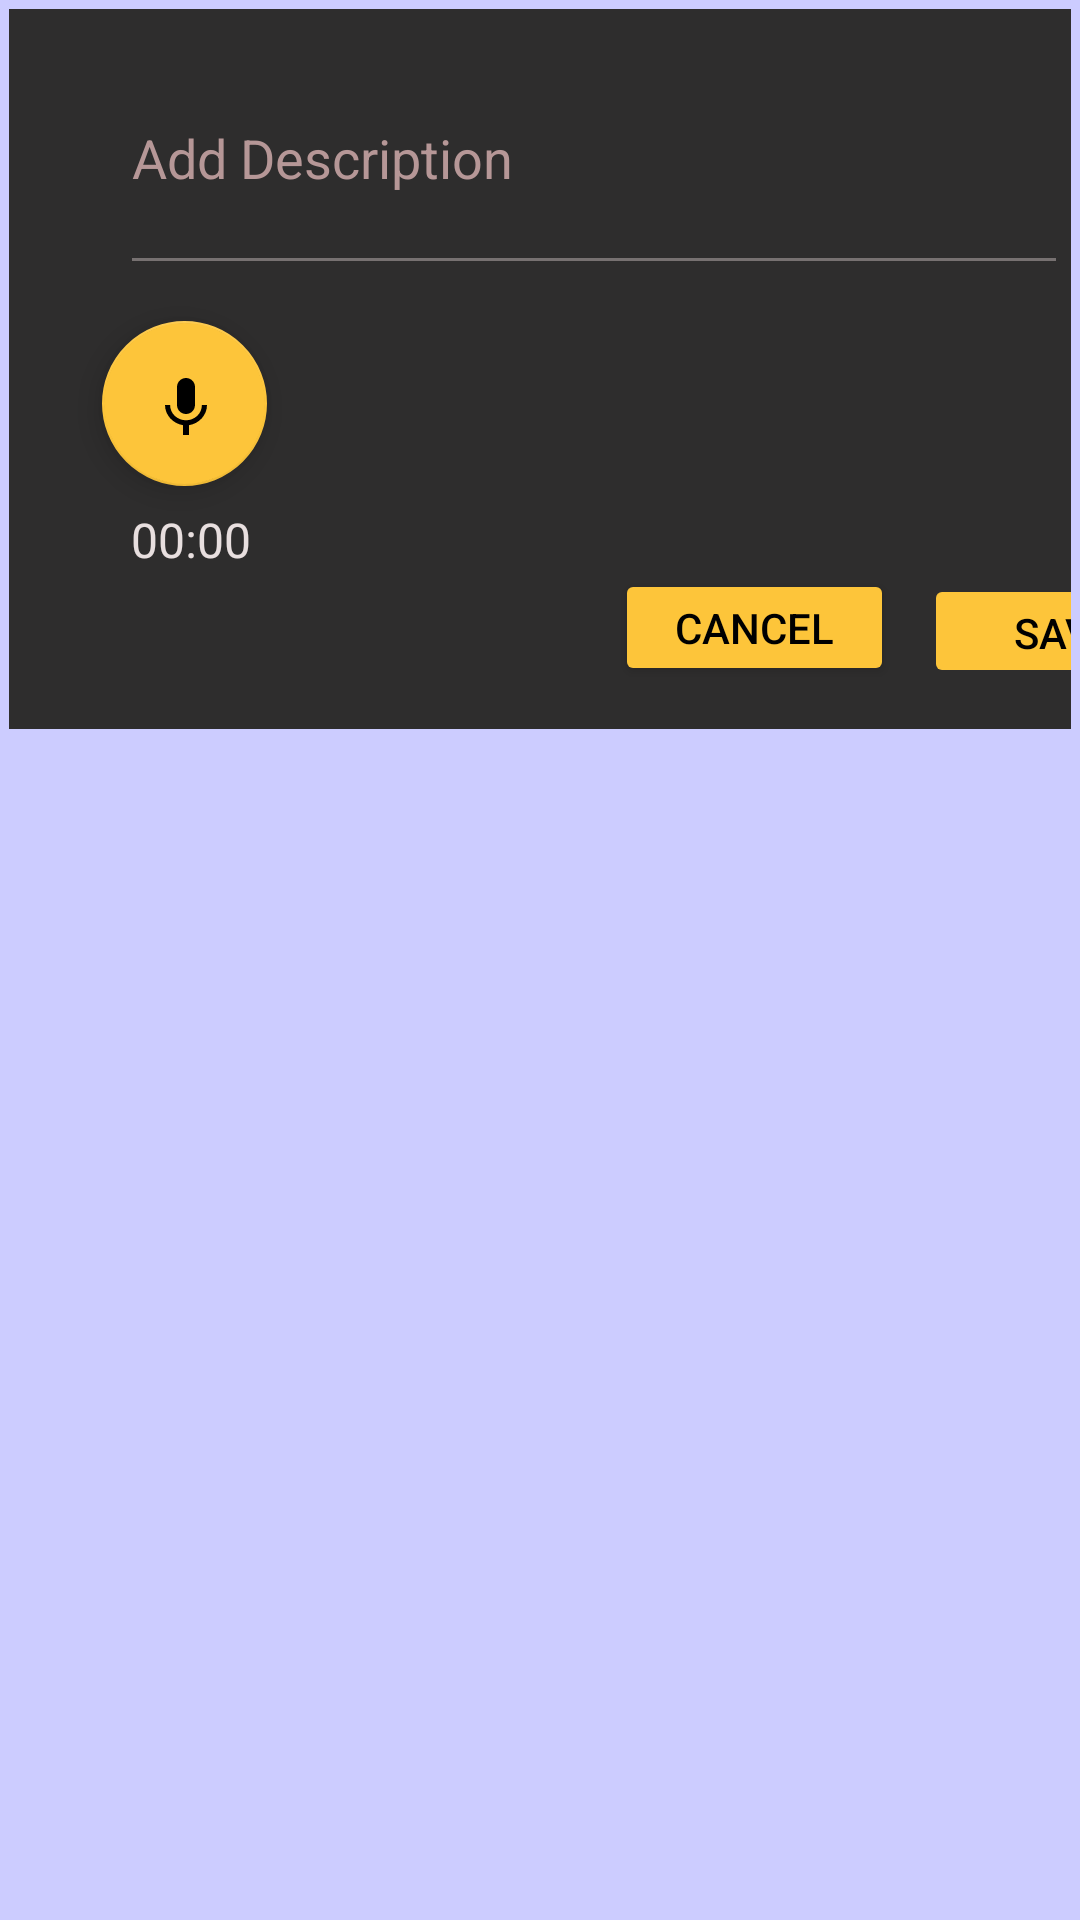

Named icons in this screenshot (1080x1920) and their bounding boxes, (x1, y1, x2, y2):
keyboard voice: (102, 321, 267, 486)
